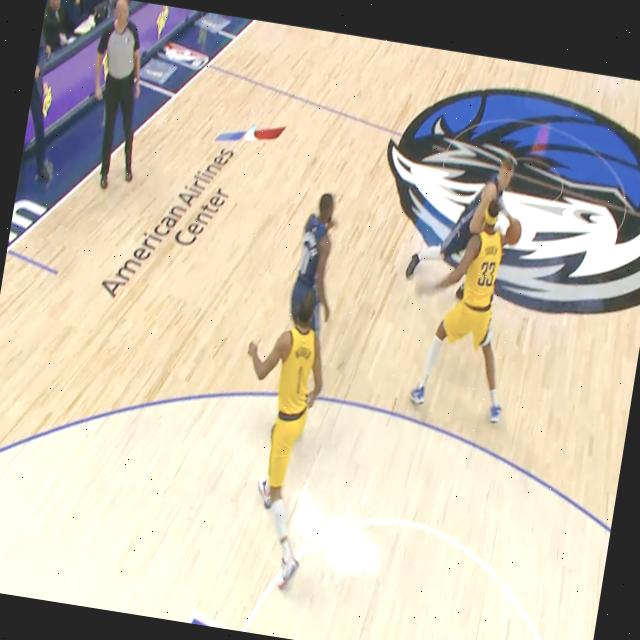no foul: (196, 182, 370, 585), (384, 122, 558, 442)
